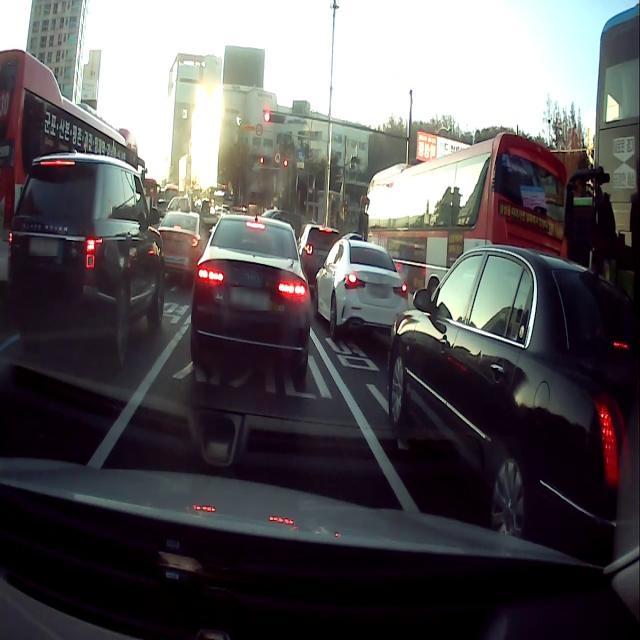Red Light: (263, 110, 271, 123)
